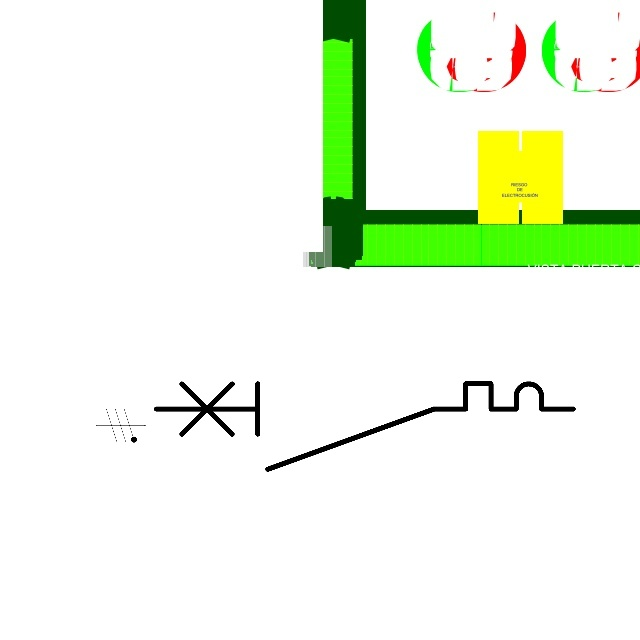interruptor_termomagnetico: (145, 373, 583, 480)
